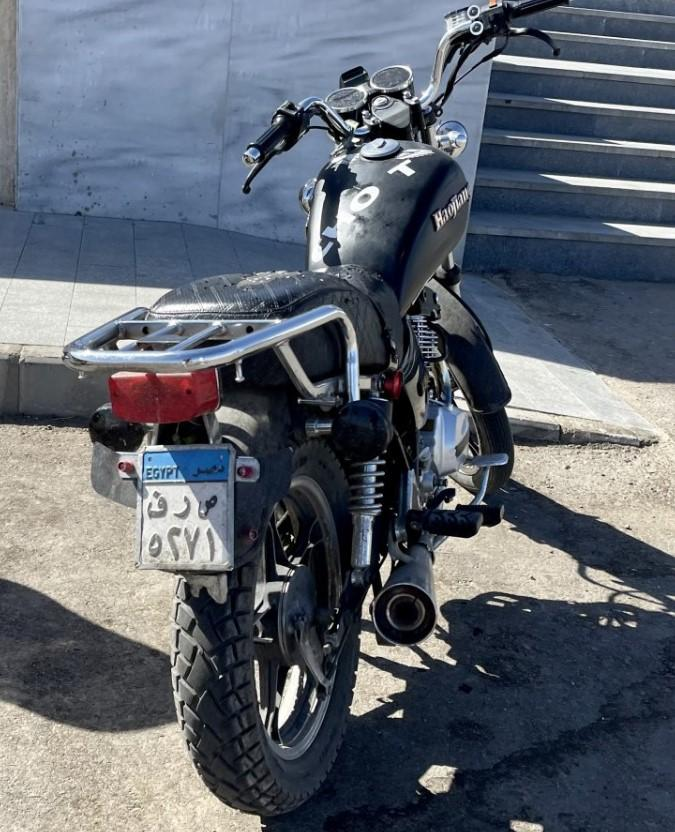License Plate: (134, 448, 240, 573)
